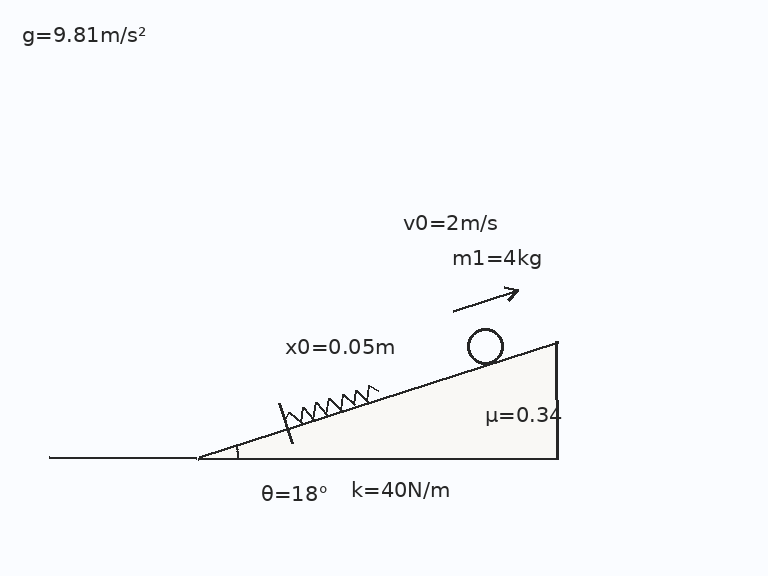ball: (465, 326, 505, 366)
ramp: (196, 339, 559, 460)
spring: (283, 384, 380, 425)
